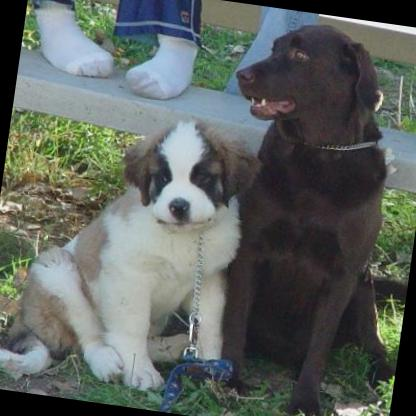Saint_Bernard: (0, 90, 254, 404)
